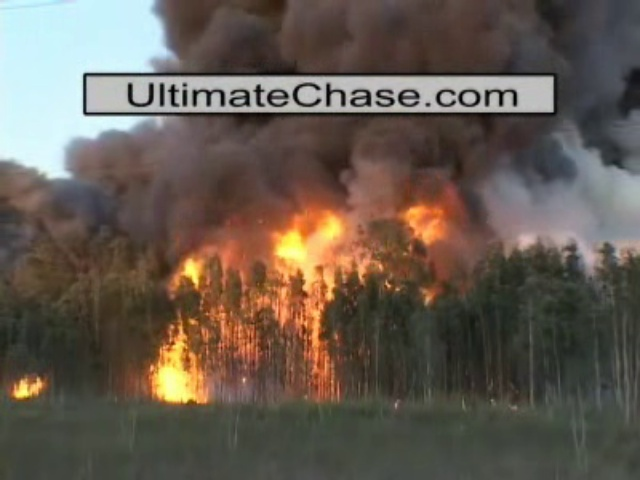fire: (269, 208, 359, 269), (145, 350, 212, 405)
